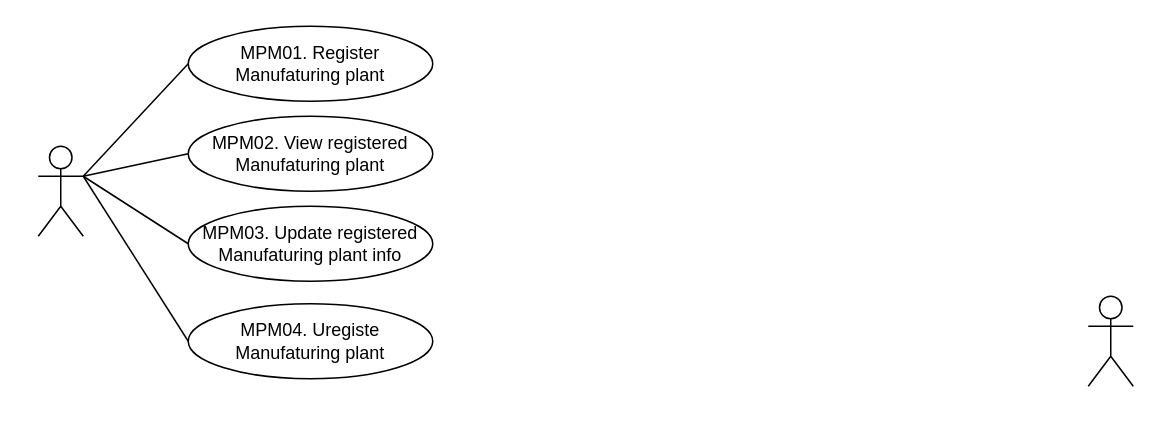
This 1160x444 diagram has some shape labels left out. The shapes that lost their labels are listed below. From the top down, each one's centre as x and y in pixels, then its label:
At point (60, 190): "Manager".
At point (1110, 340): "Actor".
